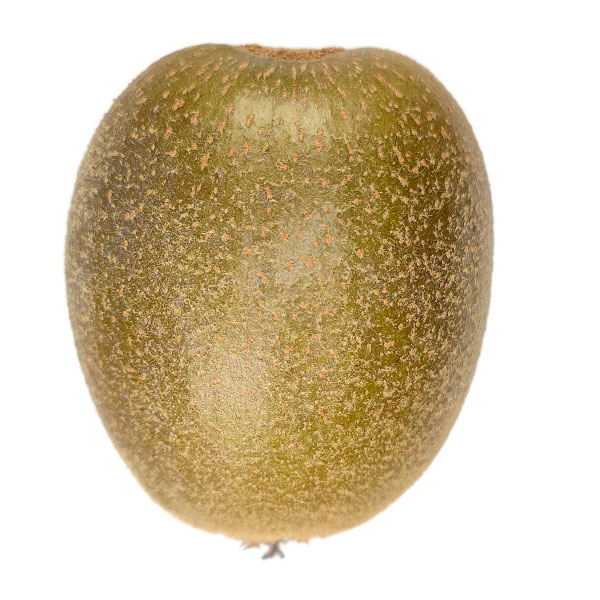kiwi: (44, 30, 547, 558)
